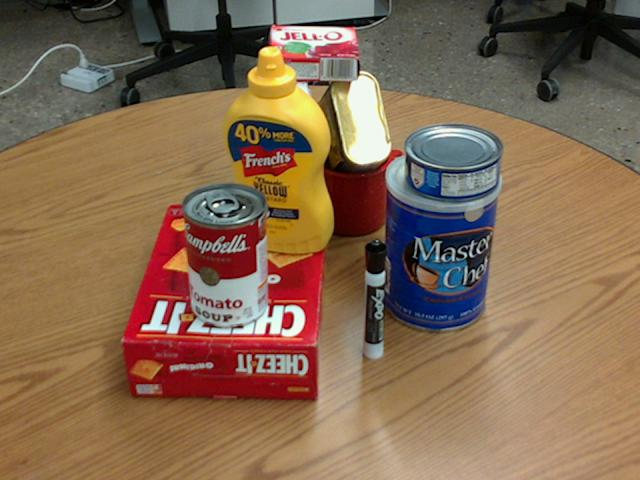cracker_box: (122, 206, 328, 399)
gelatin_box: (267, 26, 358, 82)
large_marker: (362, 239, 386, 359)
master_chef_can: (380, 146, 500, 331)
mug: (310, 132, 410, 234)
mustard_bottle: (221, 46, 332, 252)
potted_meat_can: (310, 72, 391, 188)
sugar_box: (265, 59, 308, 247)
tomato_soup_can: (181, 182, 268, 326)
tuna_fish_can: (403, 123, 502, 200)
